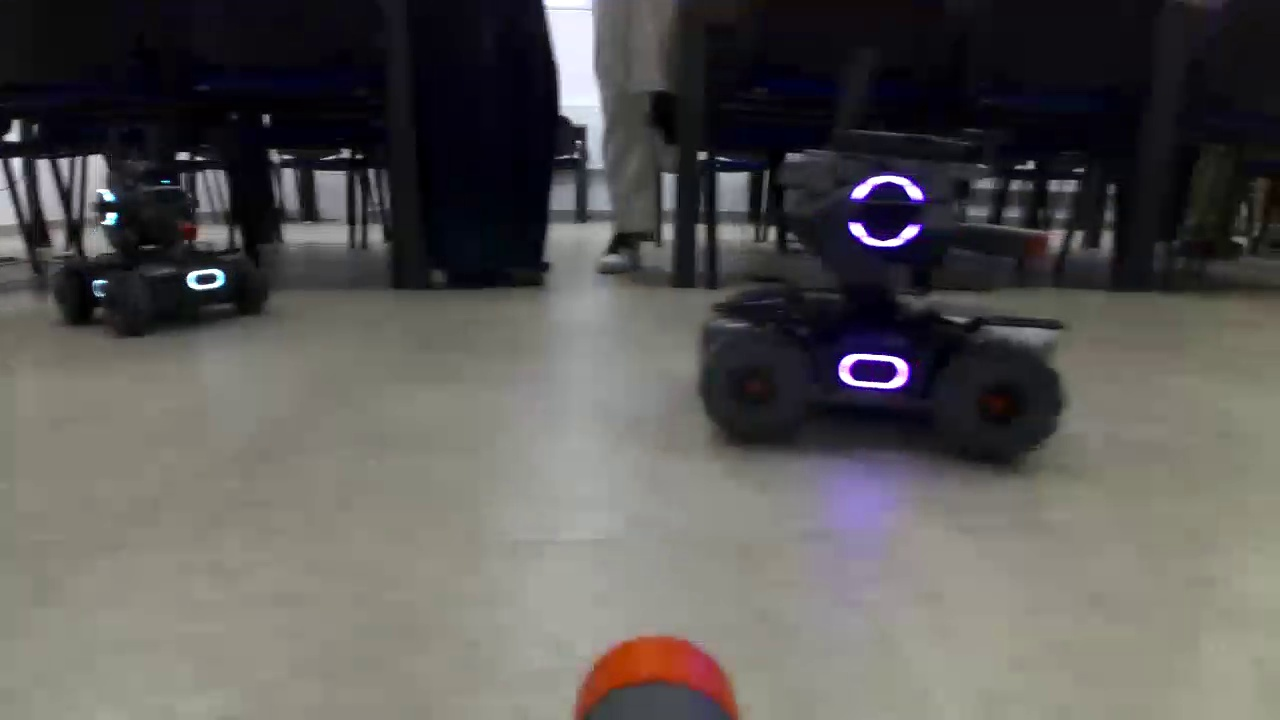robot: (697, 126, 1067, 468), (51, 161, 268, 339)
